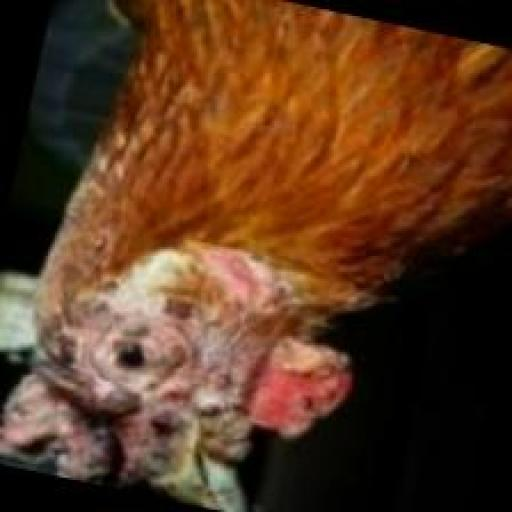disease: (0, 231, 370, 508)
